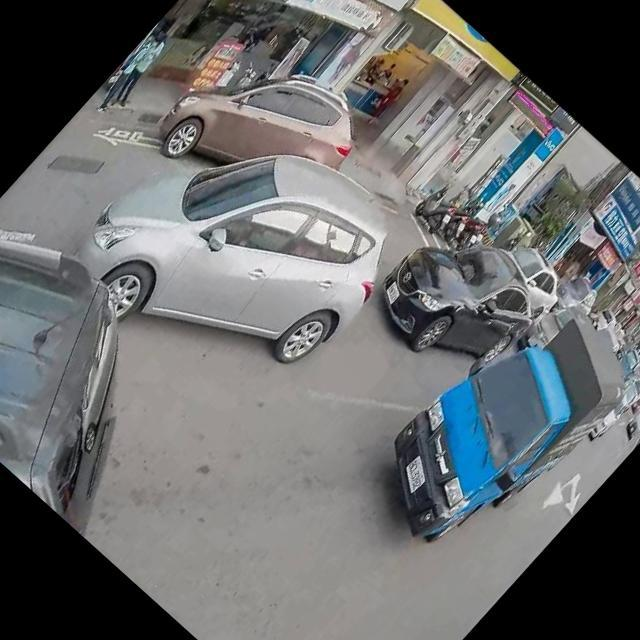person: (364, 73, 412, 124)
